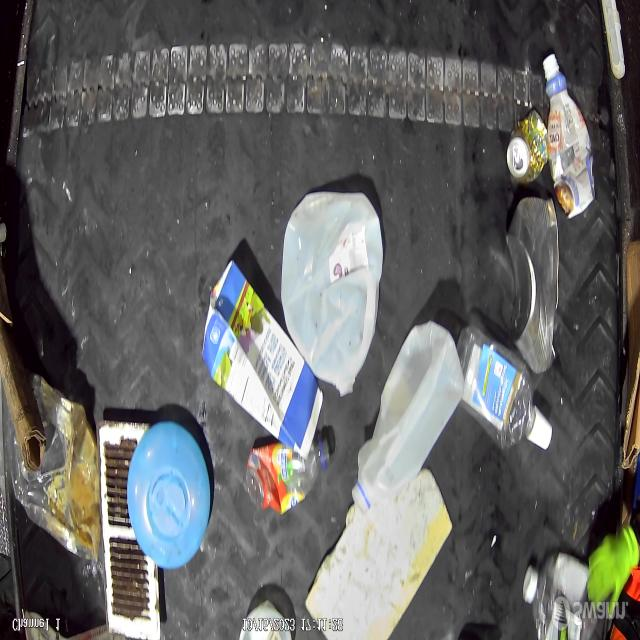can: (508, 202, 558, 370), (506, 108, 546, 190)
milk_jug: (352, 318, 464, 516), (279, 200, 382, 405)
